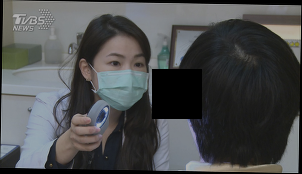with_mask: (94, 51, 151, 113)
